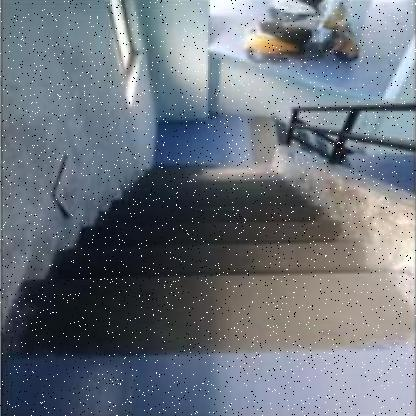stair_down: (64, 219, 343, 326)
